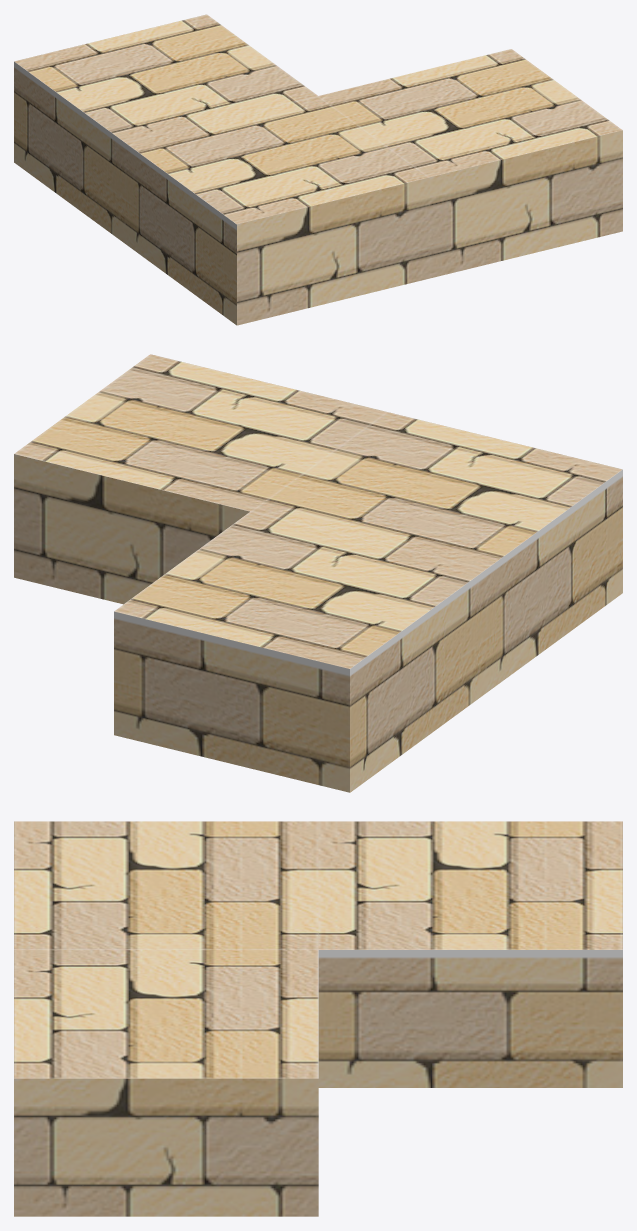
The model's file is mayabasemodelL2.fbx.
3 renders of one model, top to bottom at view 1: azimuth 30°, elevation 25°; view 2: azimuth 150°, elevation 25°; view 3: azimuth 270°, elevation 25°, orthographic. The views are drawn at different scales.
Parts seen in each view (by area): view 1: pCube1; view 2: pCube1; view 3: pCube1.
Part boxes in pixels (x1,y1,x2,y2): pCube1: (14,14,622,325); pCube1: (14,354,622,792); pCube1: (14,821,622,1216).
Size of the model in its own units: 200 by 50 by 200.
